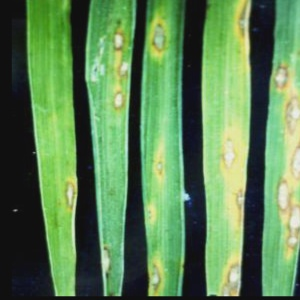Brown_Spot: (202, 126, 244, 175), (136, 251, 181, 295), (149, 134, 177, 189), (96, 222, 118, 289), (214, 2, 252, 40), (272, 92, 300, 136), (147, 17, 176, 57), (280, 199, 300, 254), (55, 173, 81, 215), (102, 21, 131, 57), (265, 58, 296, 90), (220, 259, 246, 296), (269, 178, 299, 210), (283, 138, 300, 180), (142, 200, 165, 230), (109, 54, 134, 80), (109, 82, 130, 110), (224, 189, 249, 212)
